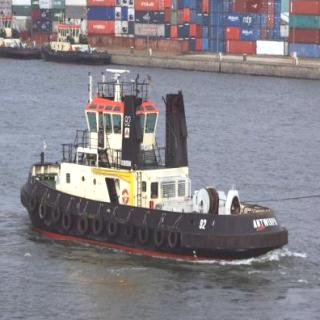Tug Boat: (20, 61, 288, 259)
